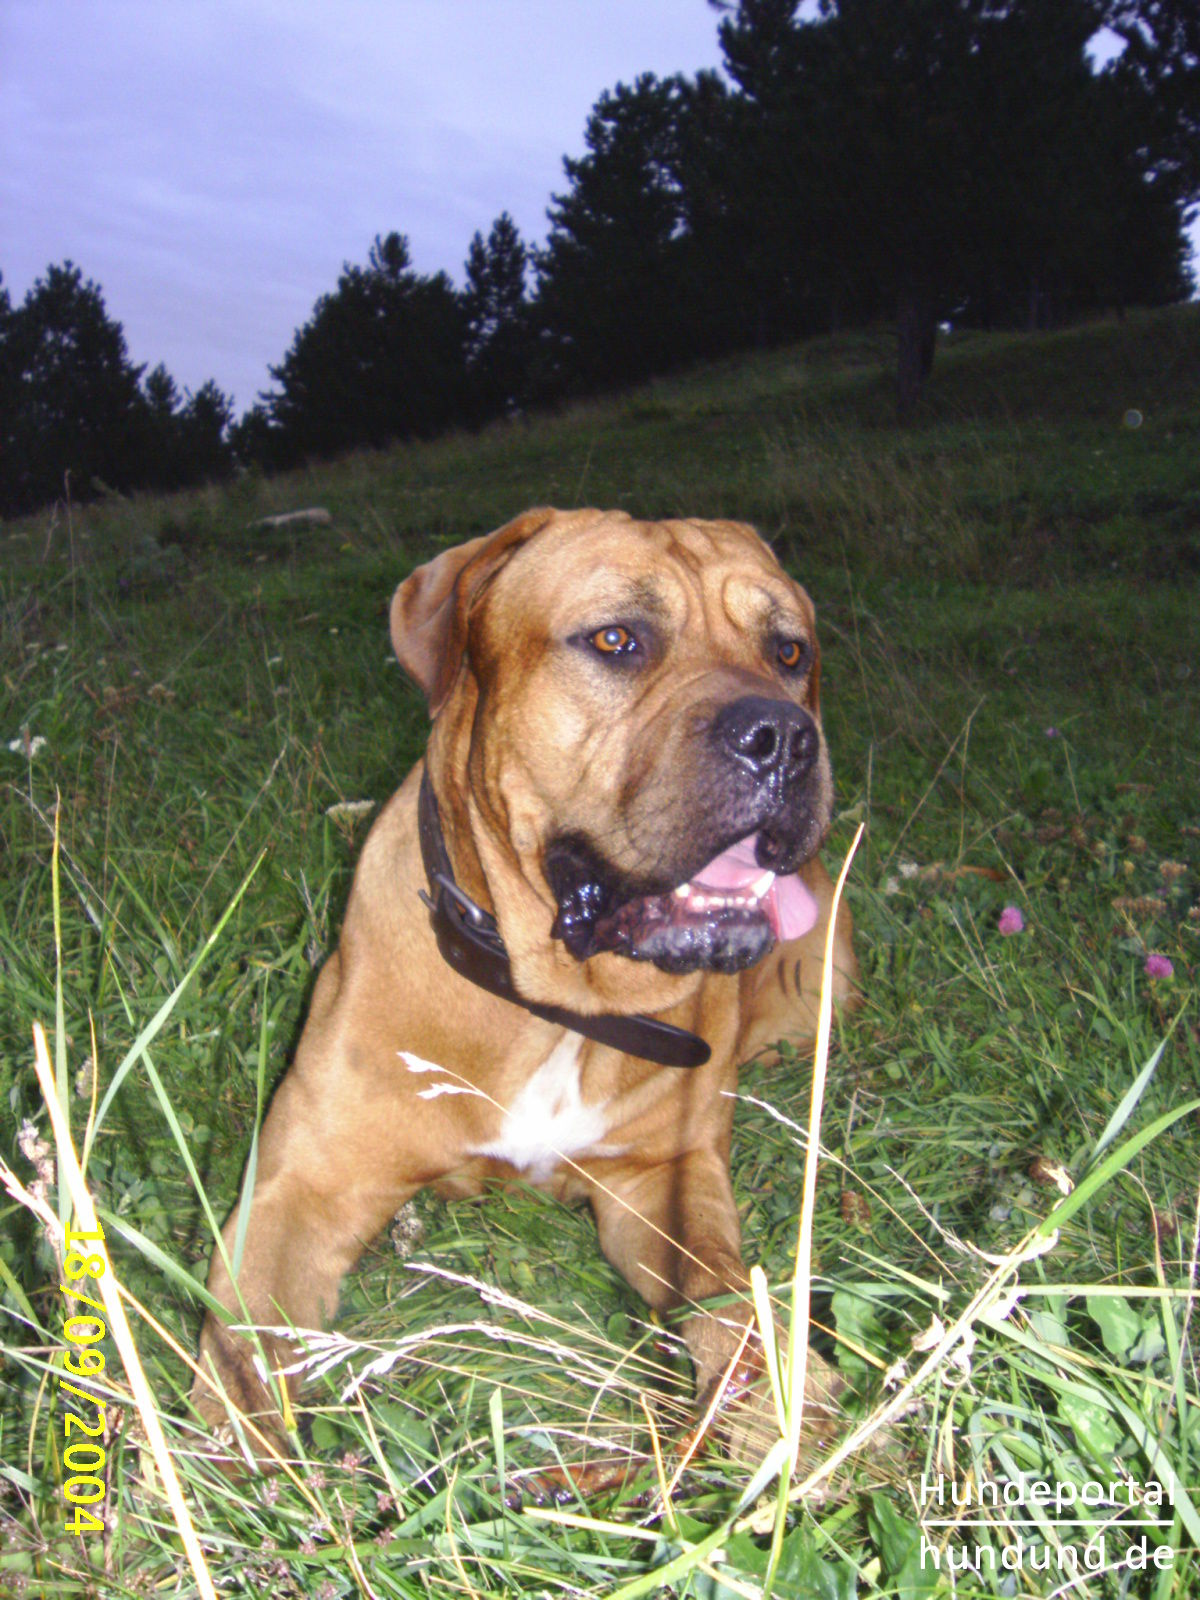tosa_inu: (190, 503, 862, 1477)
